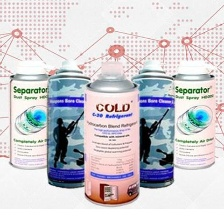aerosol_cans: (80, 59, 143, 208), (43, 57, 97, 189), (127, 56, 178, 191), (165, 57, 219, 171), (7, 56, 55, 171)
